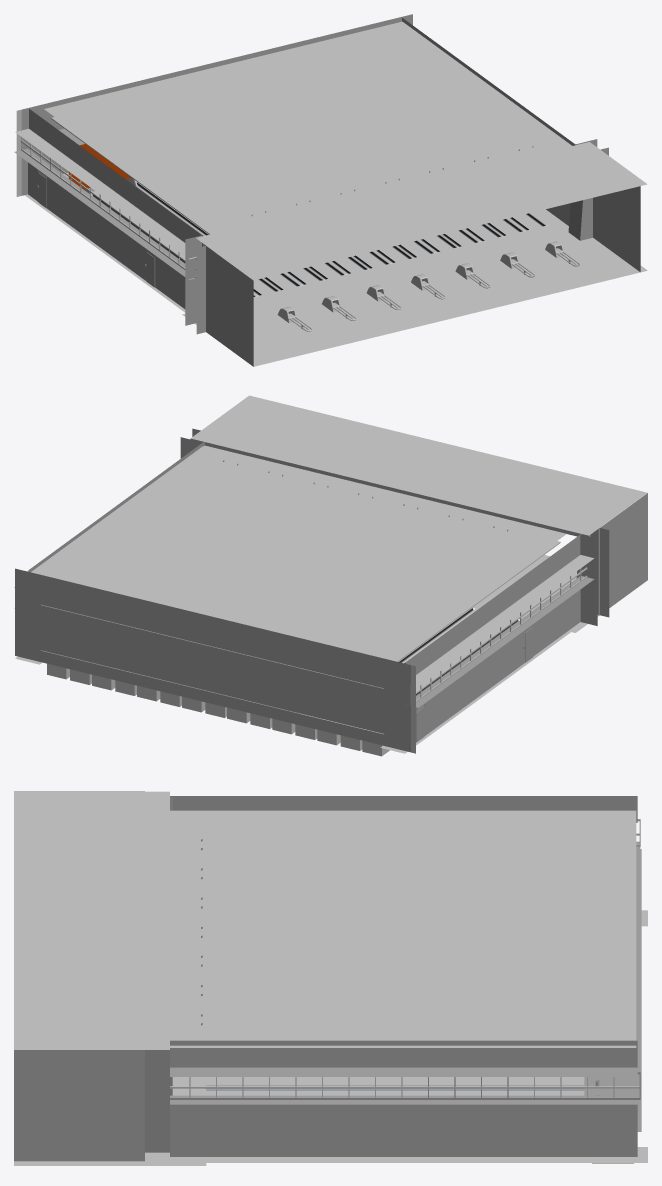
Rendered from VenueTexture.fbx.
3 views of the same model, one above another, from view 1: azimuth 30°, elevation 25°; view 2: azimuth 150°, elevation 25°; view 3: azimuth 270°, elevation 25° (orthographic). The views are drawn at different scales.
Parts seen in each view (by area): view 1: VenueTexture:Venue01:Mesh; view 2: VenueTexture:Venue01:Mesh; view 3: VenueTexture:Venue01:Mesh.
Boxes of the visible parts, bbox=[...] form: VenueTexture:Venue01:Mesh: bbox=[14, 14, 647, 366]; VenueTexture:Venue01:Mesh: bbox=[14, 395, 647, 756]; VenueTexture:Venue01:Mesh: bbox=[14, 791, 647, 1165].
Size of the model in its own units: 34.37 by 7.97 by 34.09.
